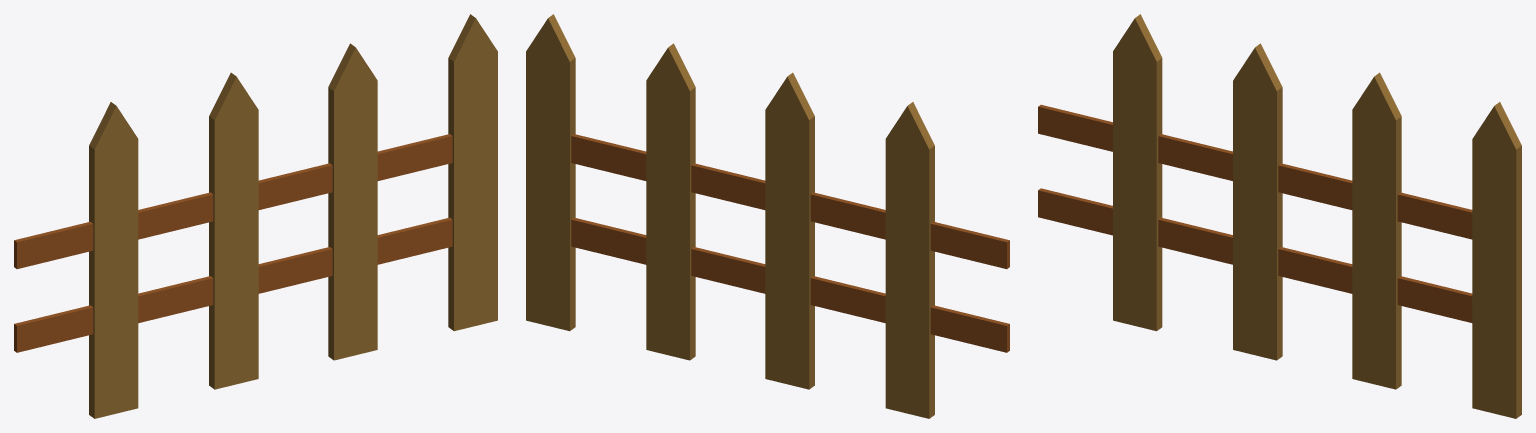
Rendered from Fence.fbx.
3 views of the same model, side by side, from view 1: azimuth 30°, elevation 25°; view 2: azimuth 150°, elevation 25°; view 3: azimuth 330°, elevation 25° (orthographic).
Parts seen in each view (by area): view 1: Fence; view 2: Fence; view 3: Fence.
Part boxes in pixels (x1,y1,x2,y2): Fence: (14,14,497,418); Fence: (526,14,1009,418); Fence: (1038,14,1521,418).
Size of the model in its own units: 186 by 114 by 3.83.
